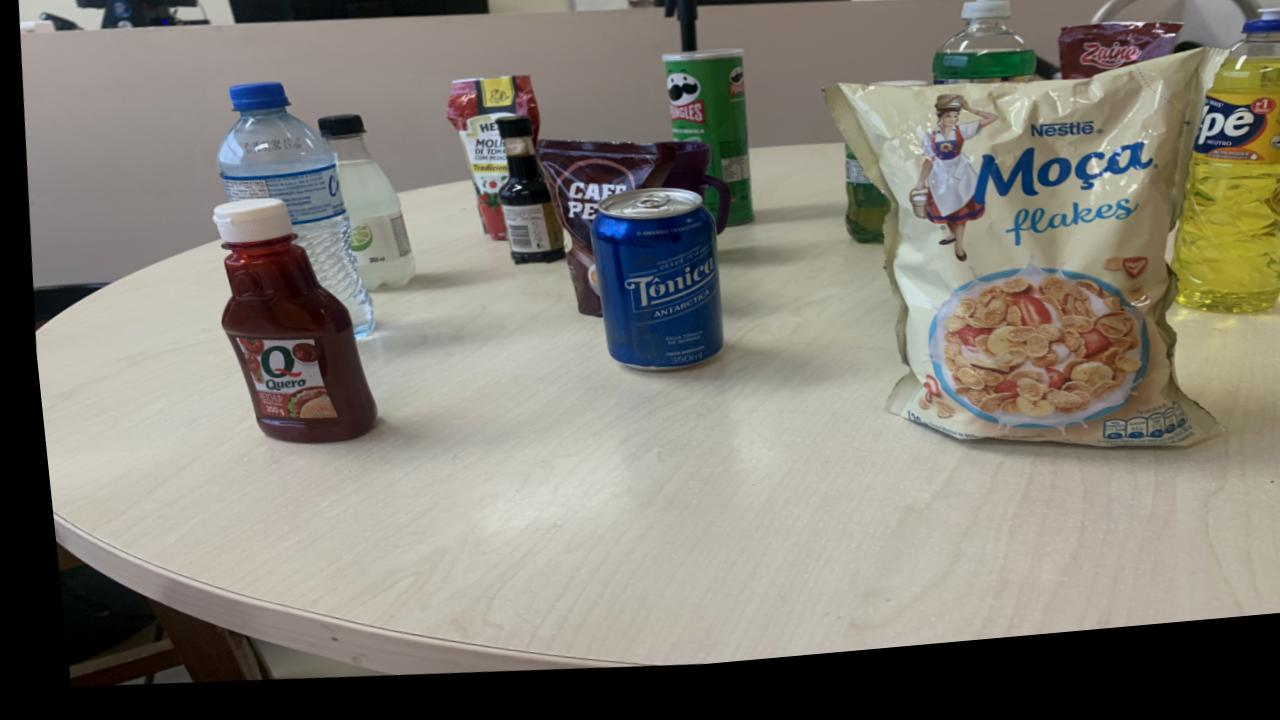Coffee-Pantry_Items: (532, 150, 670, 326)
Detergent-Cleanup_Items: (1165, 32, 1280, 336), (928, 3, 1034, 102)
English_Sauce-Pantry_Items: (493, 126, 558, 273)
Flakes-Snacks: (821, 71, 1222, 468)
Guarana-Drinks: (838, 162, 885, 259)
Ketchup-Pantry_Items: (207, 204, 366, 448)
Pringles-Snacks: (660, 62, 747, 239)
Soda-Drinks: (315, 121, 408, 296)
Tomato_Sauce-Pantry_Items: (443, 85, 536, 249), (1056, 42, 1178, 100)
Tonic-Drinks: (584, 199, 713, 382)
Water_Bottle-Drinks: (213, 89, 366, 343)
